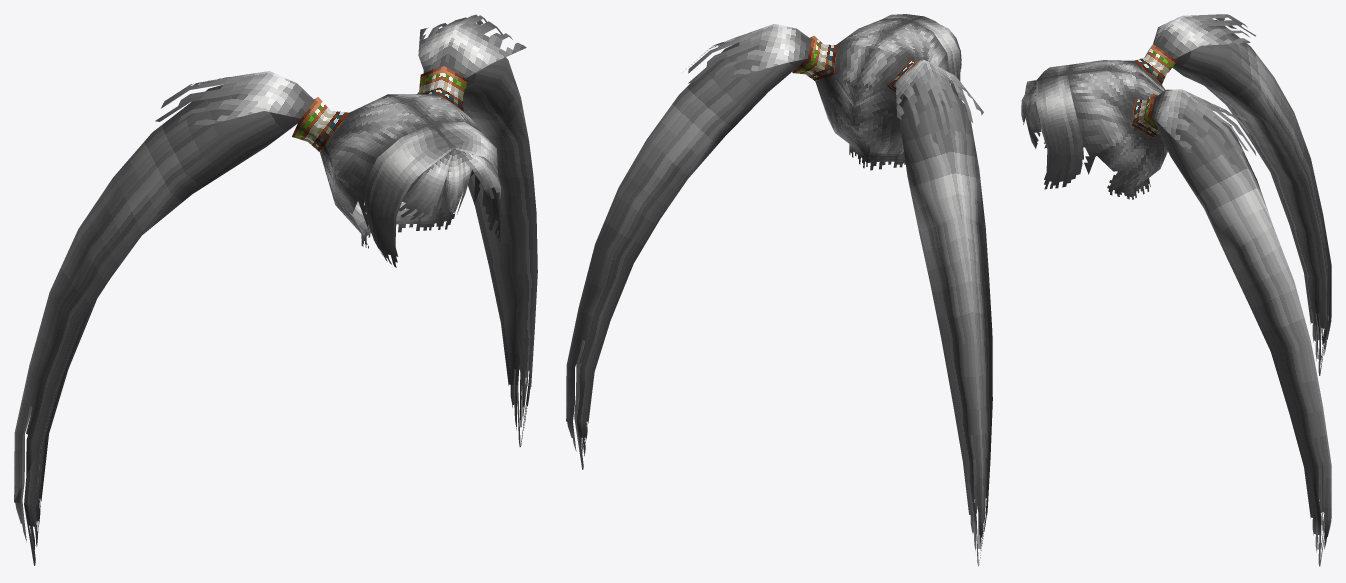
Rendered from f_head025.glb.
The picture shows the model from 3 angles, left to right: view 1: azimuth 30°, elevation 25°; view 2: azimuth 150°, elevation 25°; view 3: azimuth 270°, elevation 25°; orthographic projection. The views are drawn at different scales.
Size of the model in its own units: 73.05 by 71.43 by 47.74.
Materials: 1 (1 with a texture image).
